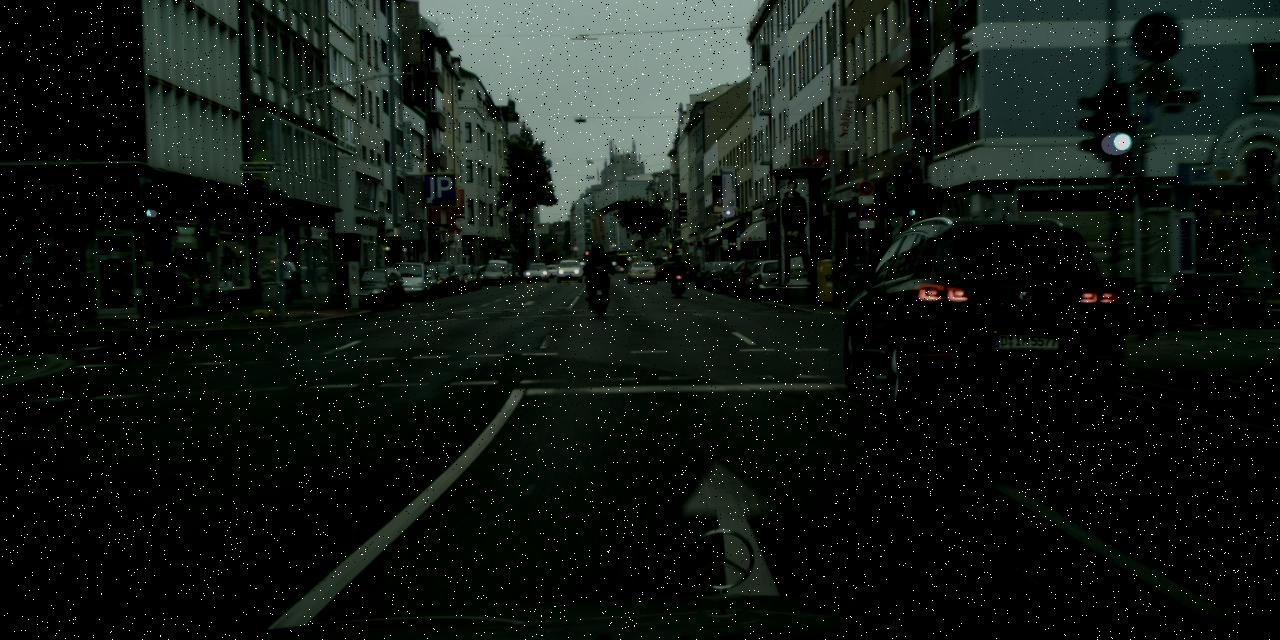ped: (136, 260, 165, 330), (584, 243, 609, 303), (278, 254, 298, 305), (672, 254, 684, 286), (688, 264, 695, 282)
